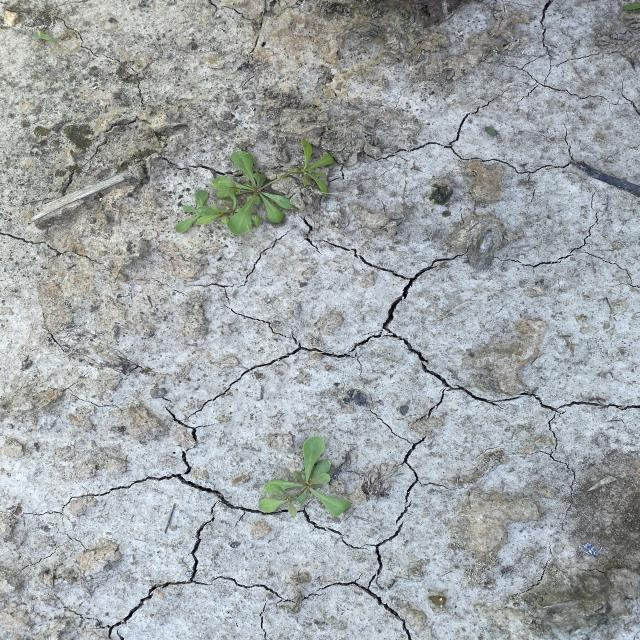Carpetweed: (174, 136, 338, 235), (255, 434, 353, 519)
